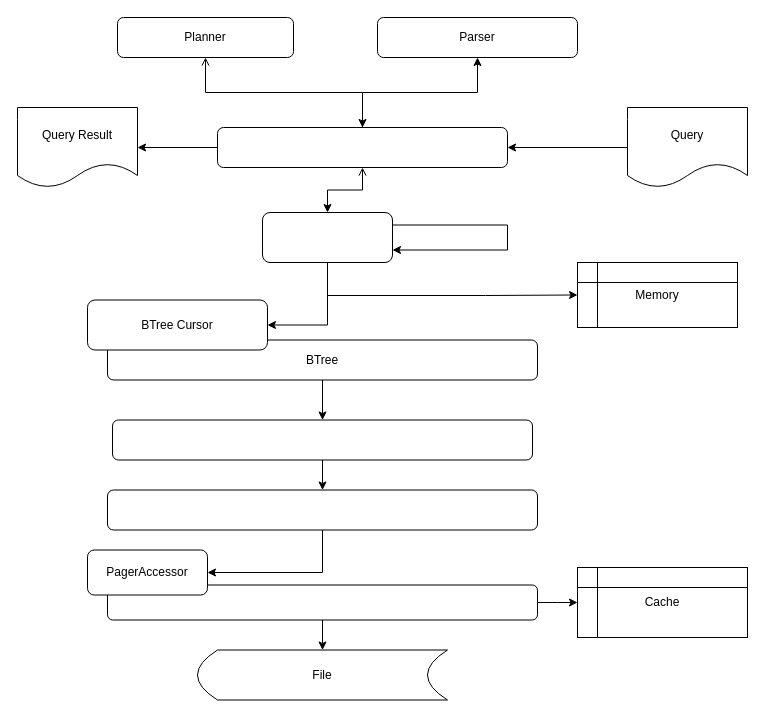
Image size: 765x718. Some labels were removed from this diagram. Here are the shapes that lost their labels. From the top down, the centre of each, then its label:
At point 362,147: "Executor".
At point 327,237: "DataFrame <<Iterator>>".
At point 322,439: "BTreeNode".
At point 322,509: "PagerProxy".
At point 322,602: "Pager".
